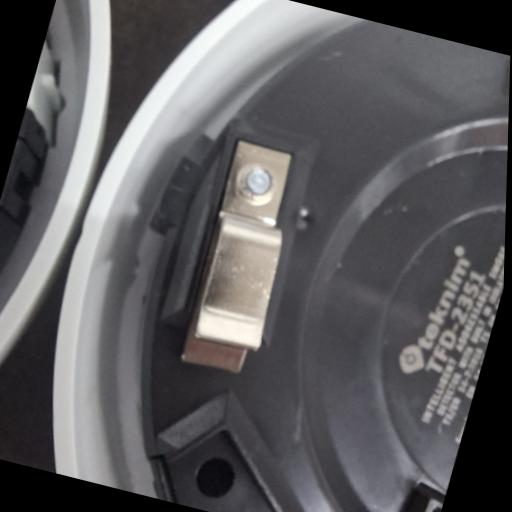yayli: (169, 134, 314, 382)
